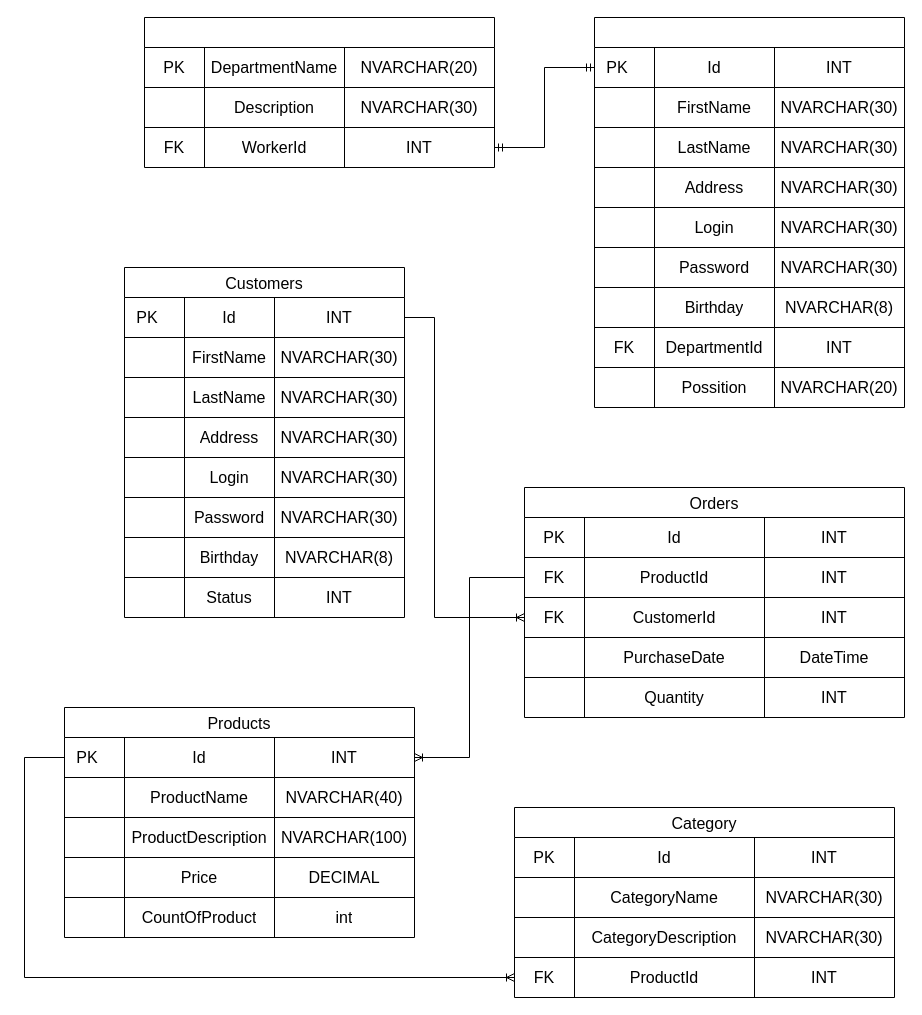
Image size: 922x1015. Some labels were removed from this diagram. Here are the shapes that lost their labels. From the top down, the box of each, then its label:
(144, 16, 494, 168): Departments
(594, 16, 904, 408): Workers
